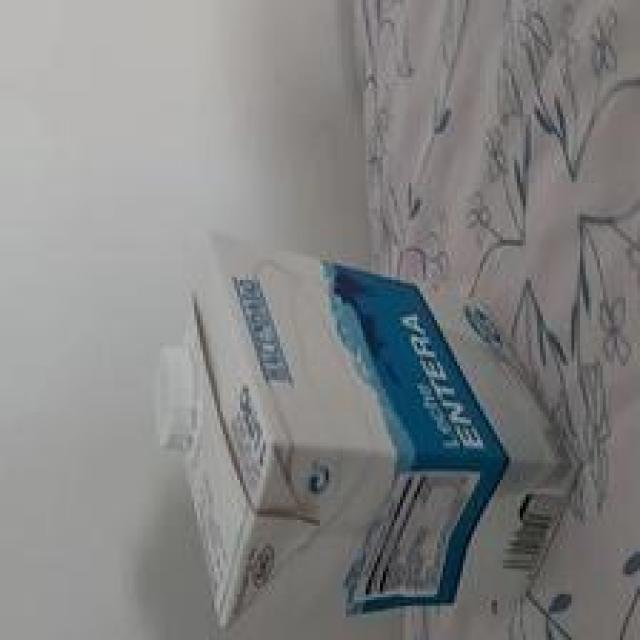Carton: (151, 224, 577, 640)
